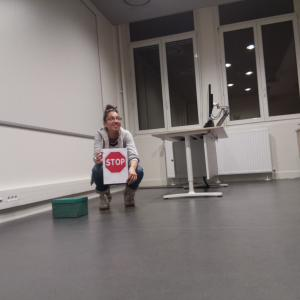stop: (104, 151, 126, 173)
